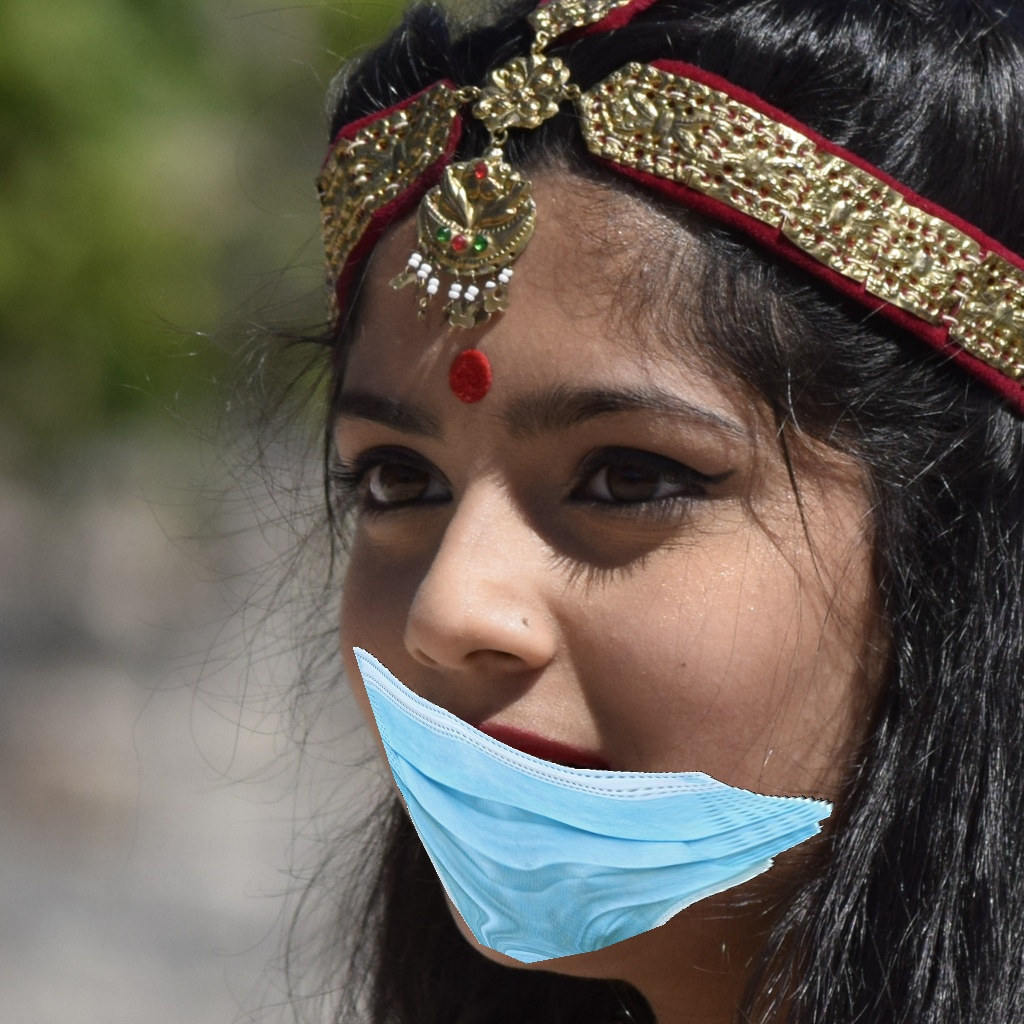Mask_Mouth_Chin: (344, 381, 878, 963)
